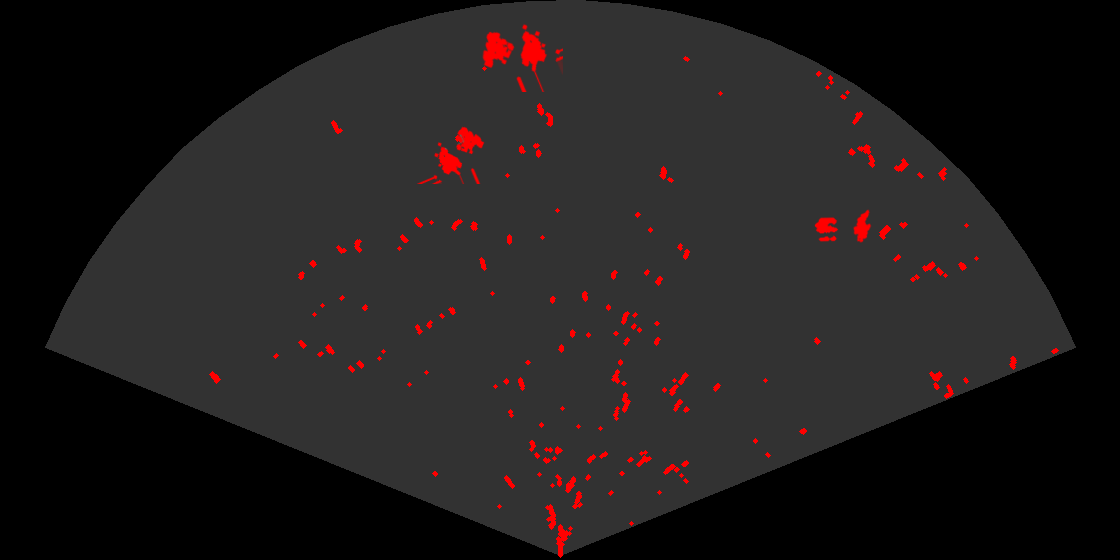AUV: (852, 208, 873, 244)
ball: (813, 216, 840, 243)
cage: (481, 23, 563, 92), (417, 125, 486, 184)
